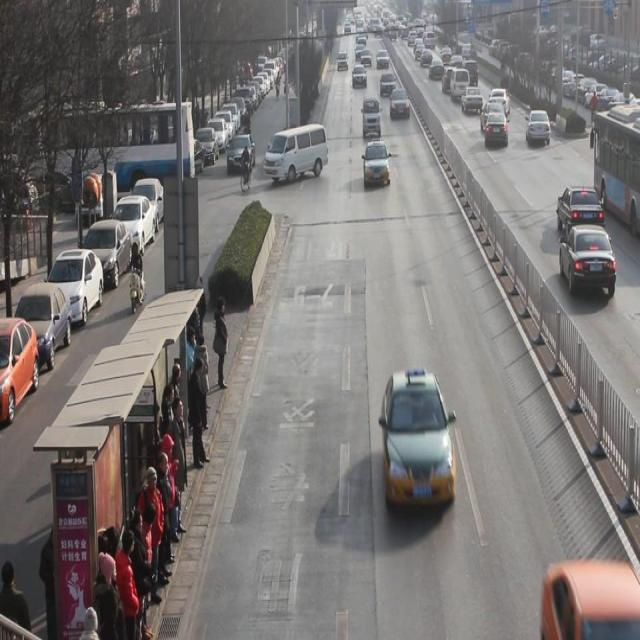car: (382, 372, 457, 509), (560, 225, 616, 300), (558, 186, 604, 241), (363, 143, 391, 188), (526, 109, 551, 148), (484, 112, 508, 150), (480, 102, 507, 134), (389, 88, 411, 120), (489, 88, 511, 118), (460, 86, 482, 115), (462, 59, 481, 89), (442, 66, 459, 95), (380, 73, 397, 99), (428, 58, 445, 82), (352, 64, 367, 90), (448, 56, 465, 77)
truck: (264, 124, 329, 184), (362, 92, 382, 140), (450, 68, 470, 103)
van: (591, 104, 640, 236)
